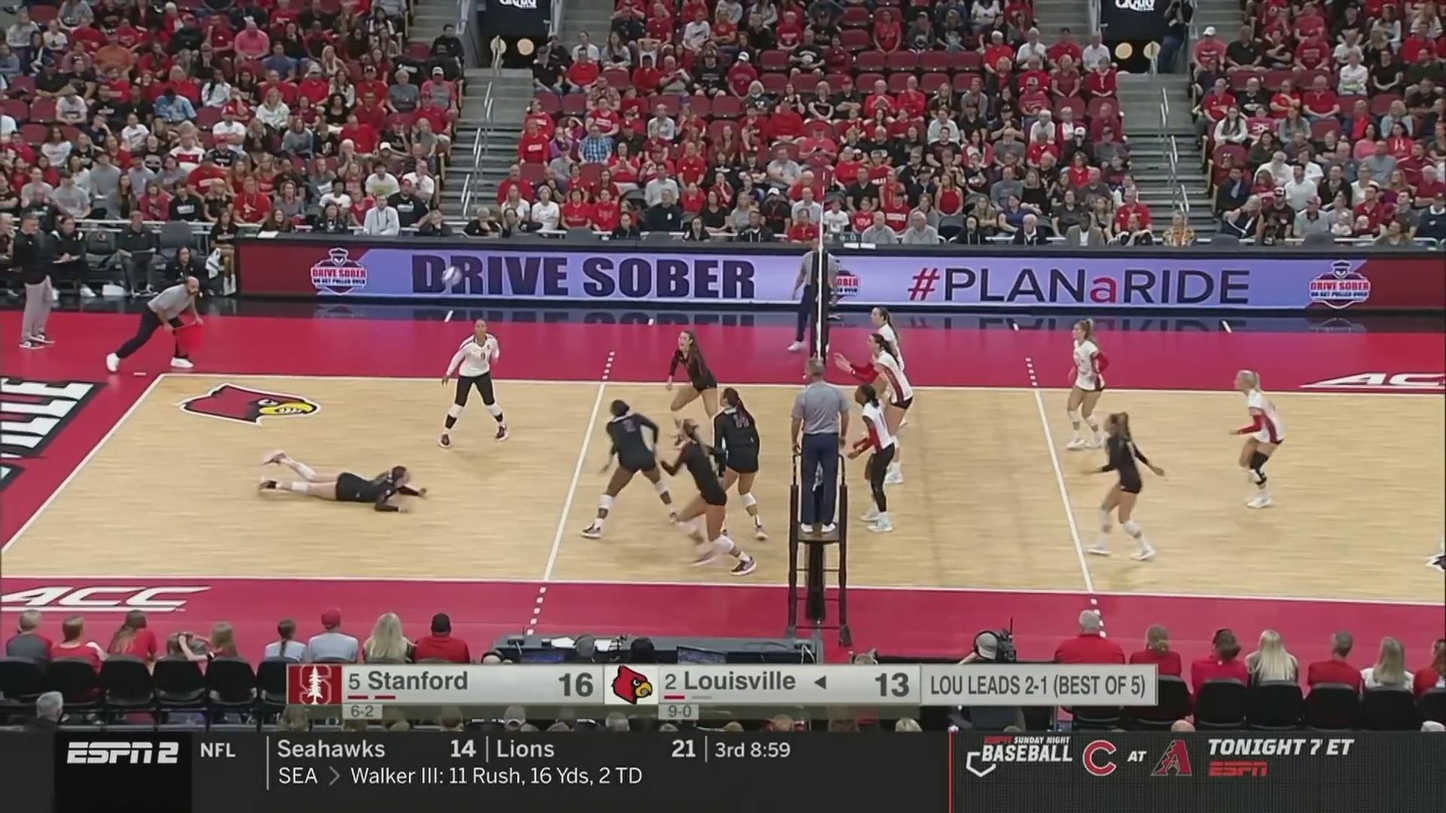player: (585, 400, 688, 537), (1078, 410, 1170, 562), (663, 422, 754, 575), (837, 336, 913, 482), (258, 450, 431, 512), (705, 388, 769, 541), (442, 320, 511, 445), (1230, 368, 1286, 512), (666, 331, 730, 457), (850, 386, 897, 534), (1063, 319, 1107, 450), (865, 307, 910, 433)
refree: (793, 363, 850, 531), (106, 277, 204, 373), (791, 238, 838, 353)
